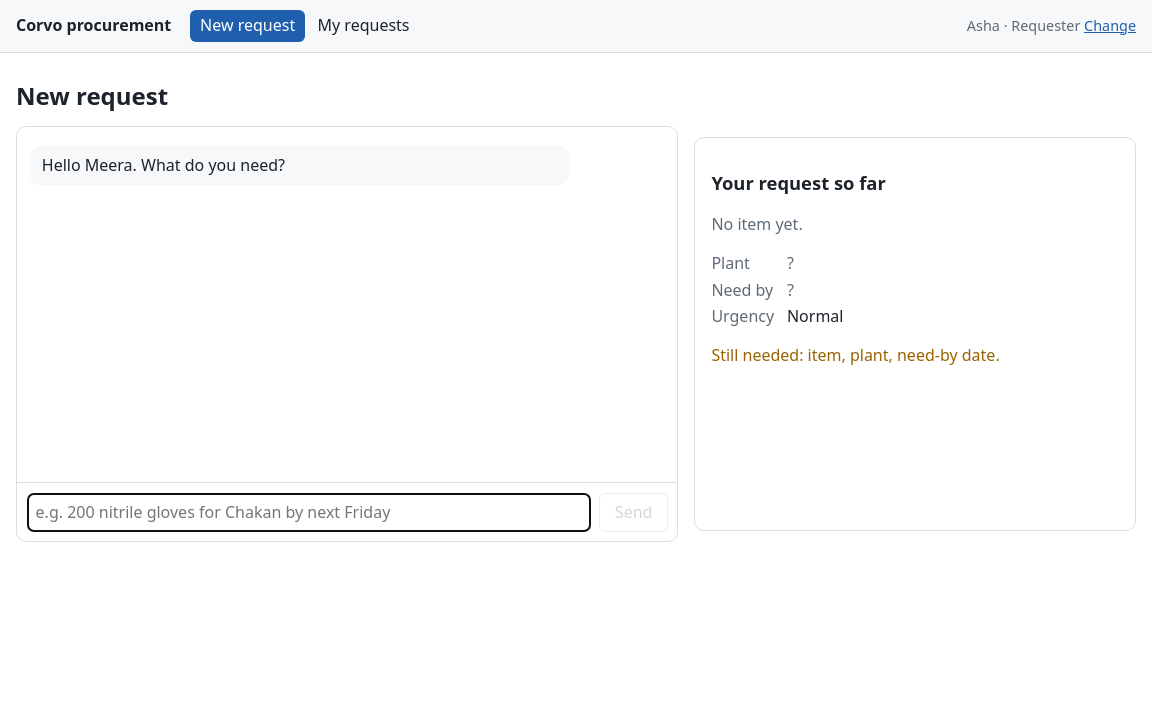
Test: chat intake screen (B3) › Enter sends the message once and does nothing else
Type "need 200 nitrile gloves for Chakan by next Friday" into the field named "Message" at {"x": 309, "y": 512}, box [27, 493, 592, 532]
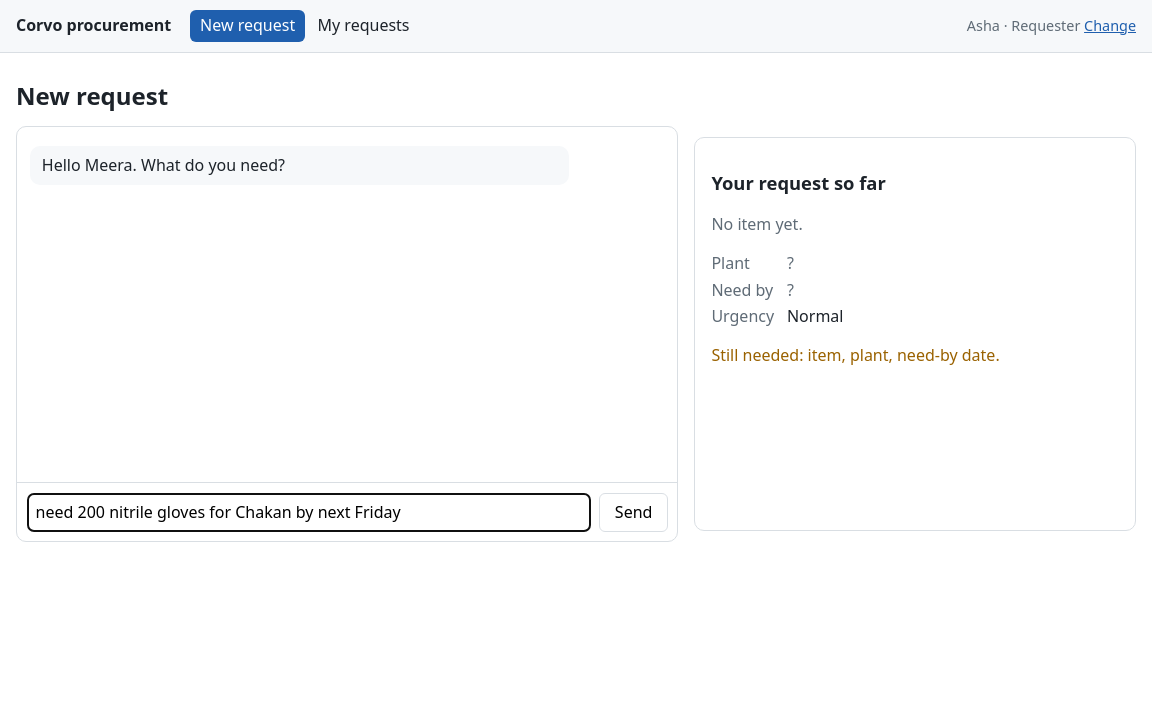
Submit the form named "Message", box [17, 482, 677, 541]
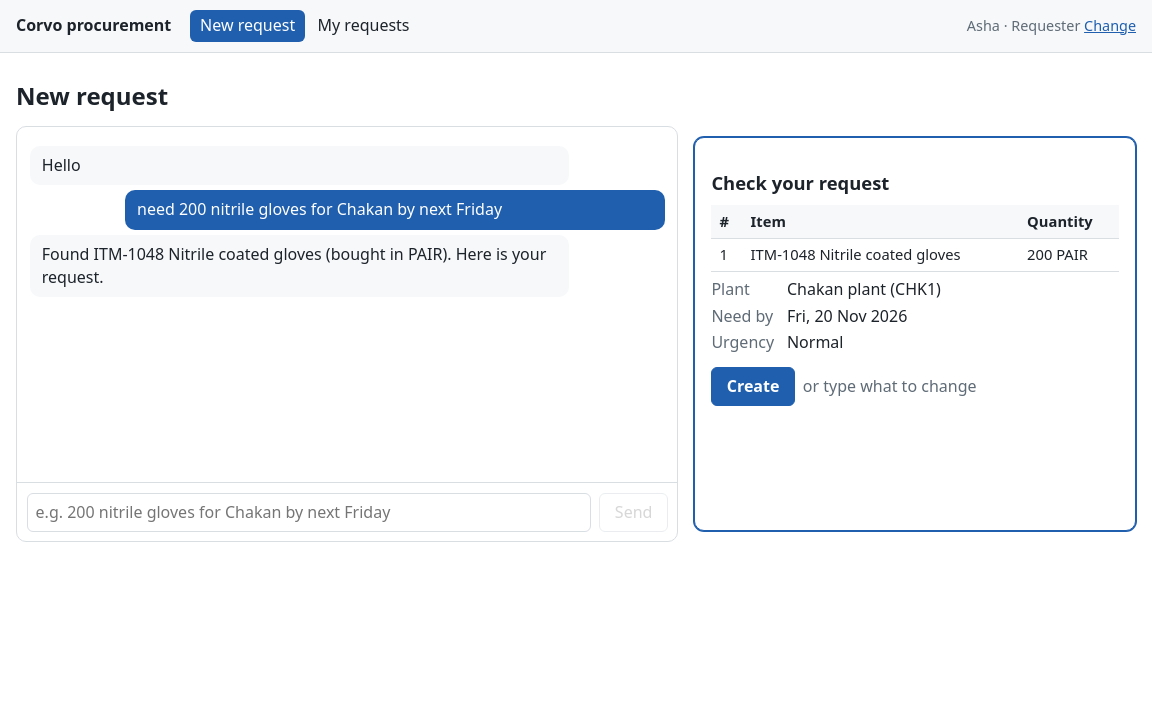
Expected: the text "Found ITM-1048" is shown, [42, 243, 550, 288]
